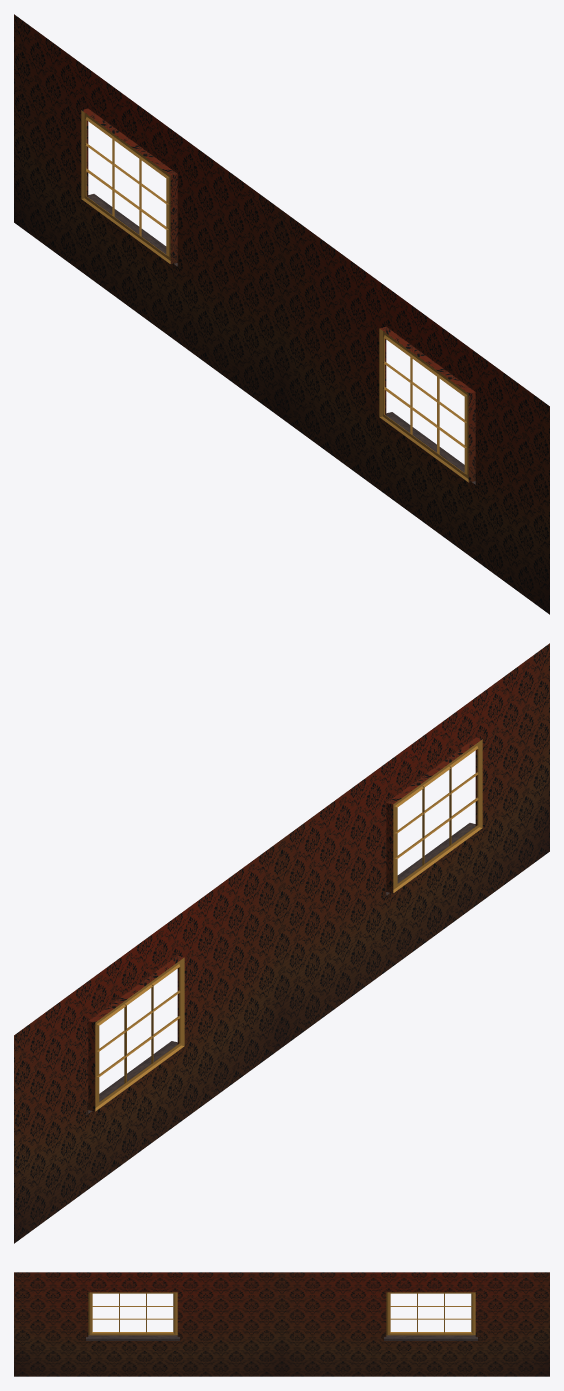
The model's file is wand vorne BRAUN ALONE.fbx.
3 views of the same model, one above another, from view 1: azimuth 30°, elevation 25°; view 2: azimuth 150°, elevation 25°; view 3: azimuth 270°, elevation 25° (orthographic). The views are drawn at different scales.
Parts seen in each view (by area): view 1: hintergrund_wand; view 2: hintergrund_wand; view 3: hintergrund_wand.
Boxes of the visible parts, box(x1,y1,x2,y2) form: hintergrund_wand: box(14, 14, 549, 614); hintergrund_wand: box(14, 643, 549, 1243); hintergrund_wand: box(14, 1272, 549, 1376).
Size of the model in its own units: 0.2285 by 3 by 13.97.
